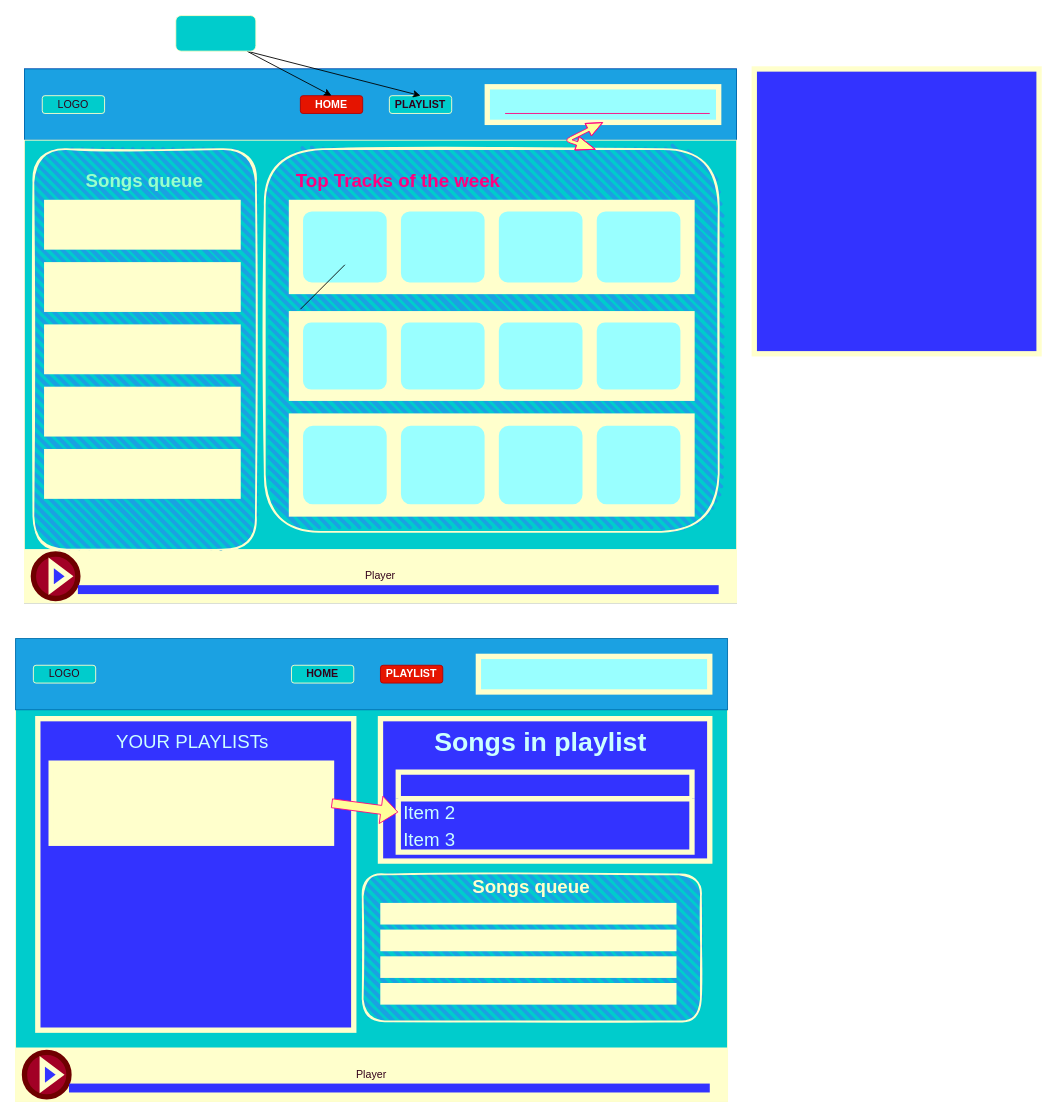
Some shapes in this 1057 by 1117 pixel diagram are drawn without their labels. The box of each missing label's shape, as (x1, y1, x2, y2) in pixels:
List: (395, 769, 694, 854)
motivation: (484, 84, 721, 125)
Nav items: (175, 15, 256, 51)
Search bar: (475, 653, 712, 694)
